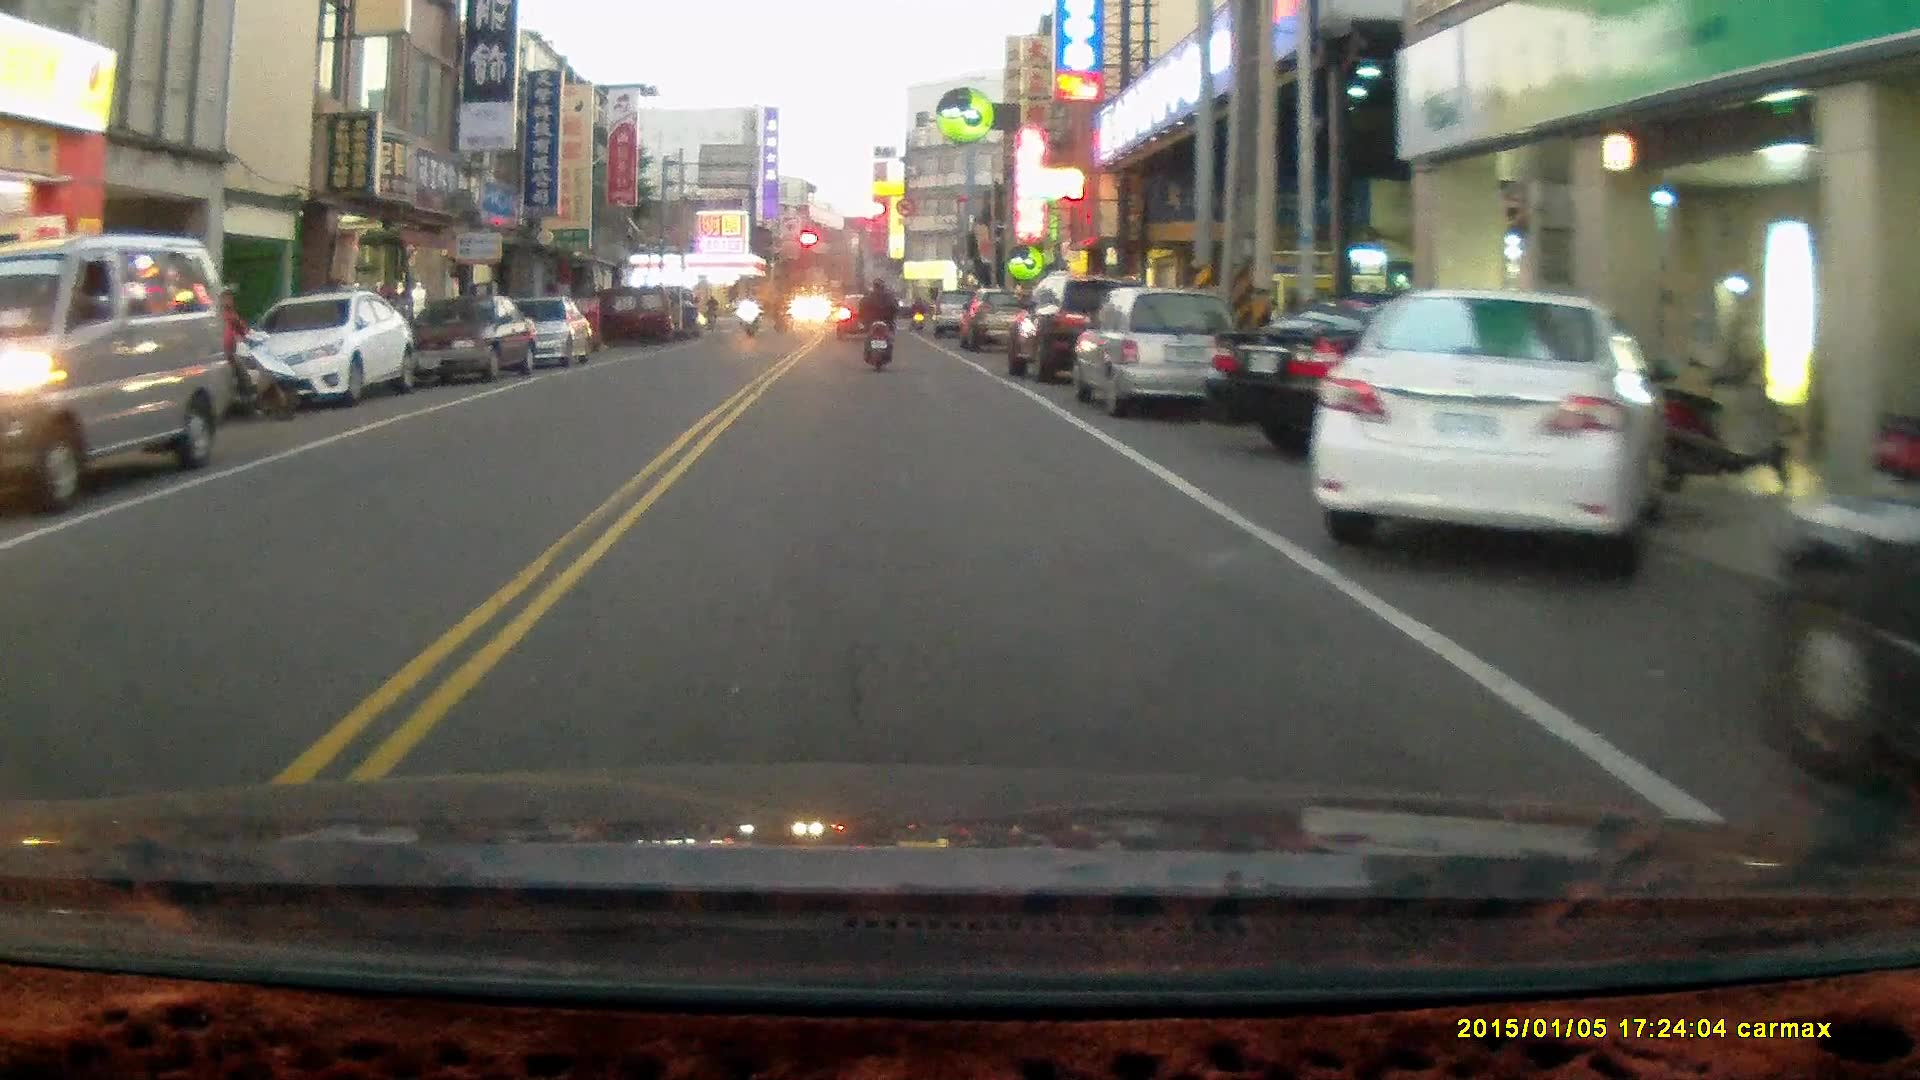rider: (215, 279, 301, 428), (856, 275, 899, 376), (734, 292, 758, 339)
vehicle: (1315, 288, 1672, 565), (1208, 295, 1617, 464), (1, 238, 234, 507), (1780, 483, 1920, 810), (1075, 286, 1252, 417), (240, 293, 414, 414), (1004, 279, 1150, 387), (397, 297, 542, 386), (480, 299, 590, 376)
